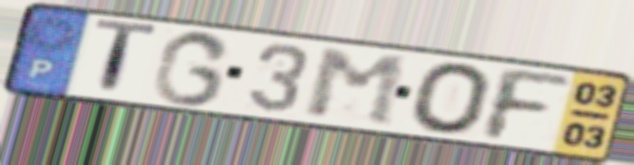3: (245, 41, 315, 116)
F: (481, 64, 575, 144)
G: (148, 28, 235, 109)
M: (303, 46, 410, 129)
O: (407, 60, 496, 137)
T: (90, 16, 162, 101)
